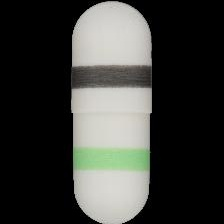49999-128: (0, 0, 224, 224)
